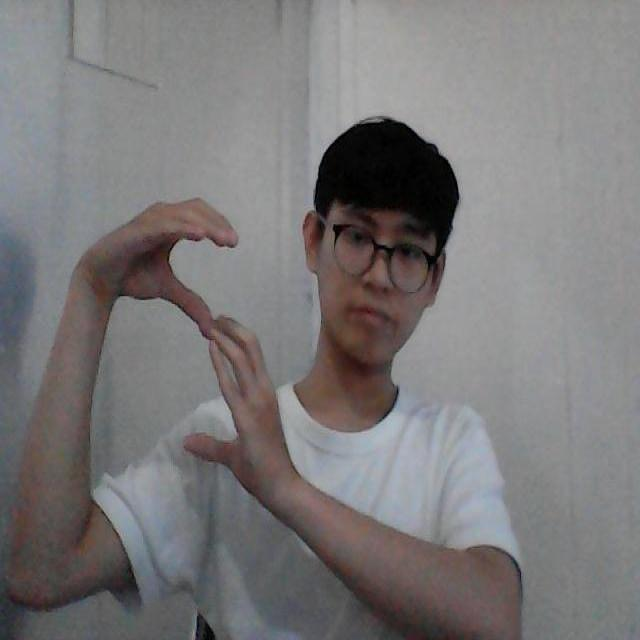S: (106, 186, 286, 486)
